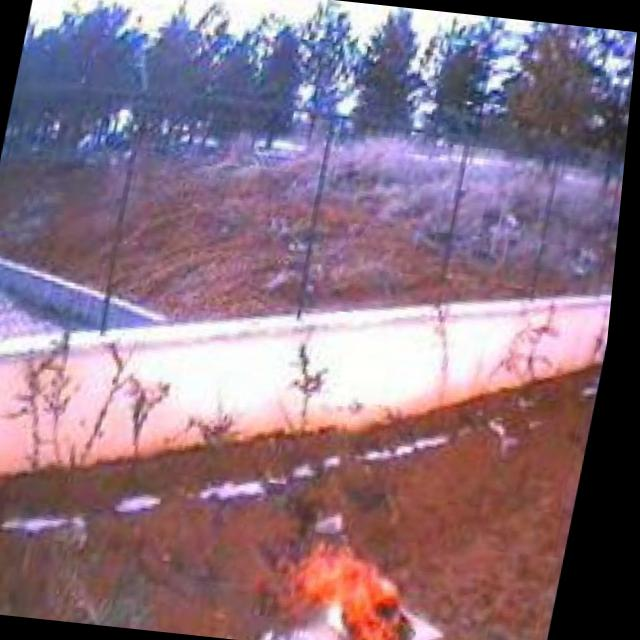Fire: (256, 525, 449, 640)
